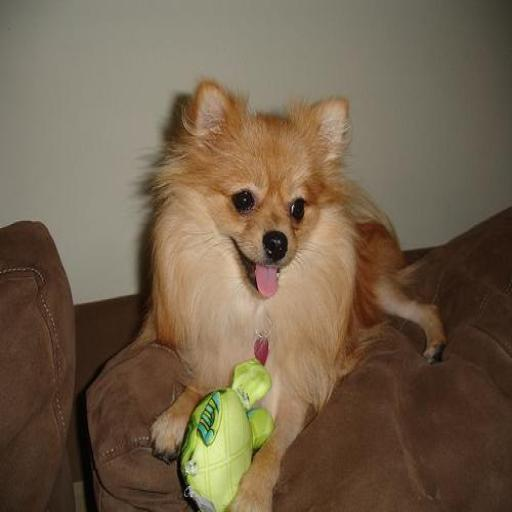dog_face: (182, 91, 352, 282)
